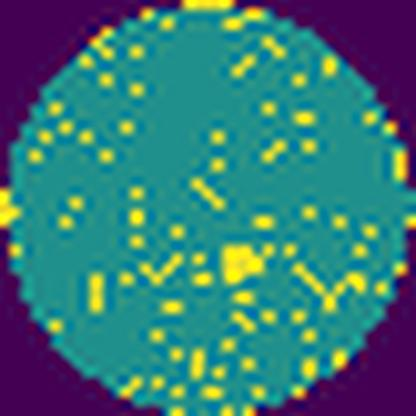Loc: (221, 243, 267, 282)
